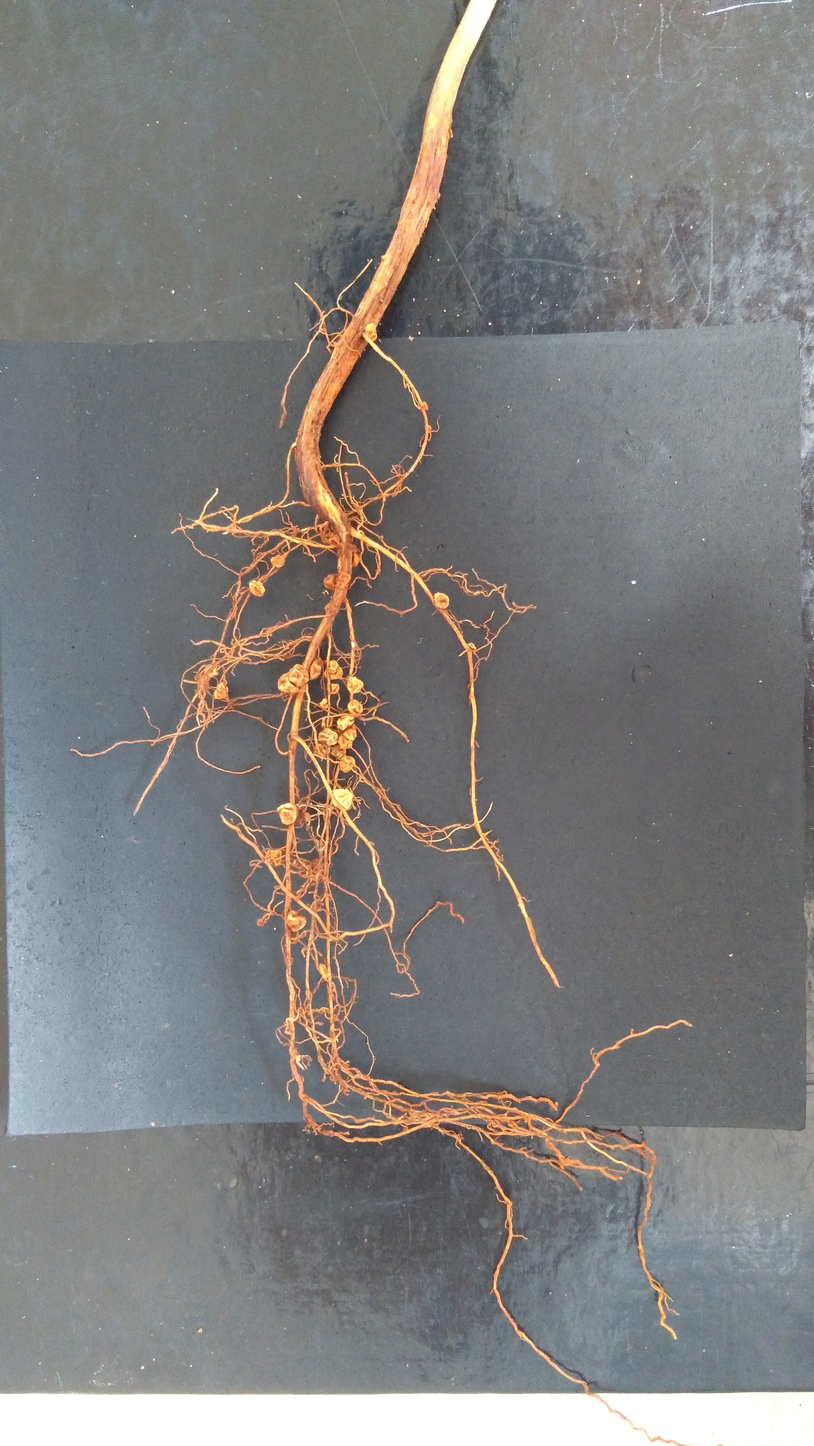nodule: (276, 672, 299, 697), (331, 787, 354, 812), (288, 662, 310, 687), (276, 802, 298, 827), (286, 908, 307, 932), (316, 727, 338, 746), (308, 656, 324, 682), (346, 675, 364, 695), (248, 579, 266, 598), (338, 755, 356, 774), (265, 848, 282, 868), (433, 591, 450, 610), (336, 714, 355, 731), (323, 665, 343, 681), (213, 680, 228, 701), (322, 572, 337, 592), (347, 699, 364, 716), (330, 743, 346, 761), (311, 741, 327, 759), (364, 322, 378, 342), (337, 571, 351, 590), (337, 735, 353, 751), (269, 553, 286, 568), (341, 728, 357, 742), (319, 962, 329, 981), (320, 716, 335, 728), (328, 659, 339, 674), (351, 551, 360, 569), (330, 683, 340, 696), (319, 697, 329, 709), (332, 533, 341, 544), (304, 811, 311, 823), (422, 401, 429, 412), (427, 424, 432, 434)
